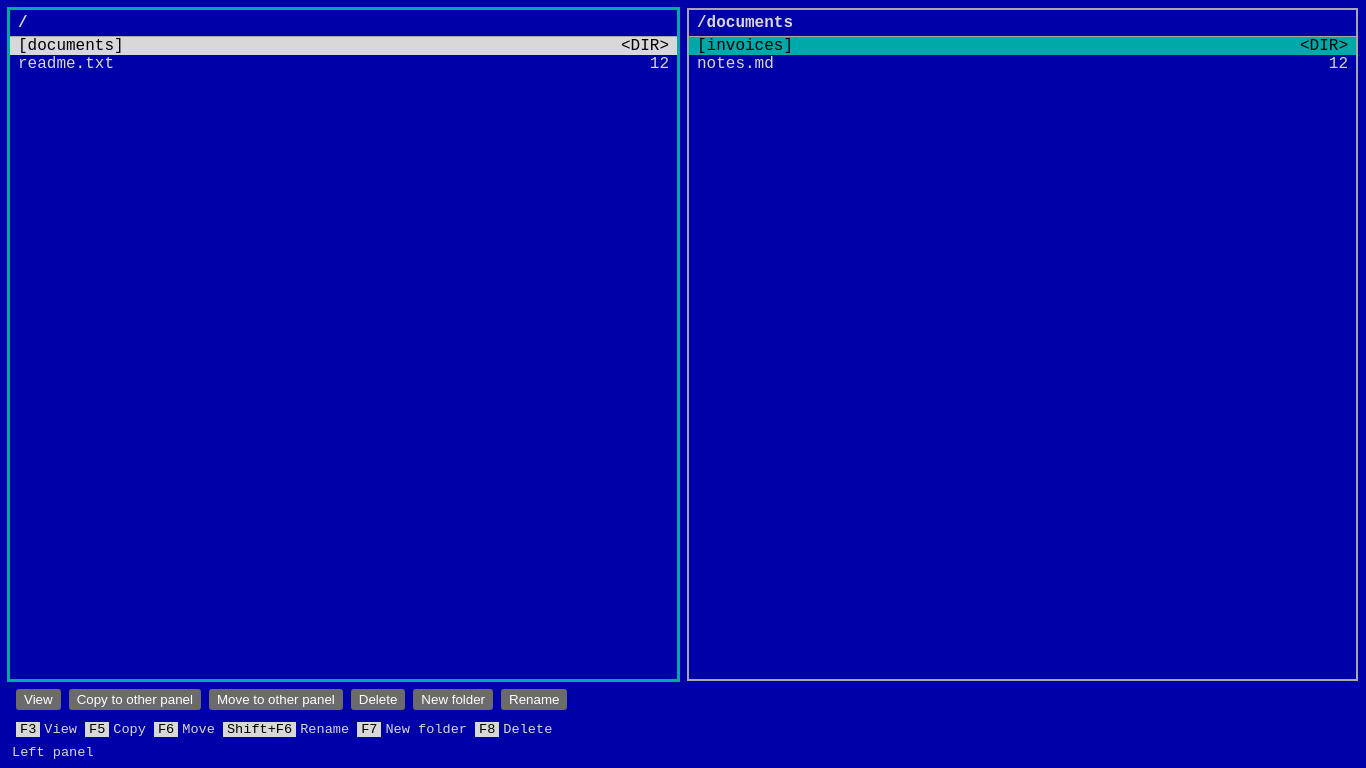
it: §REQ:TWO-PNL-NVGT-OOX-030 opening a subfolder in the active panel › §REQ:TWO-PNL-NVGT-OOX-030 the active panel shows the content of the opened subfolder
The image size is (1366, 768).
Double-click the option "[documents] <DIR>" at (71, 46), box 10,37 -> 677,55
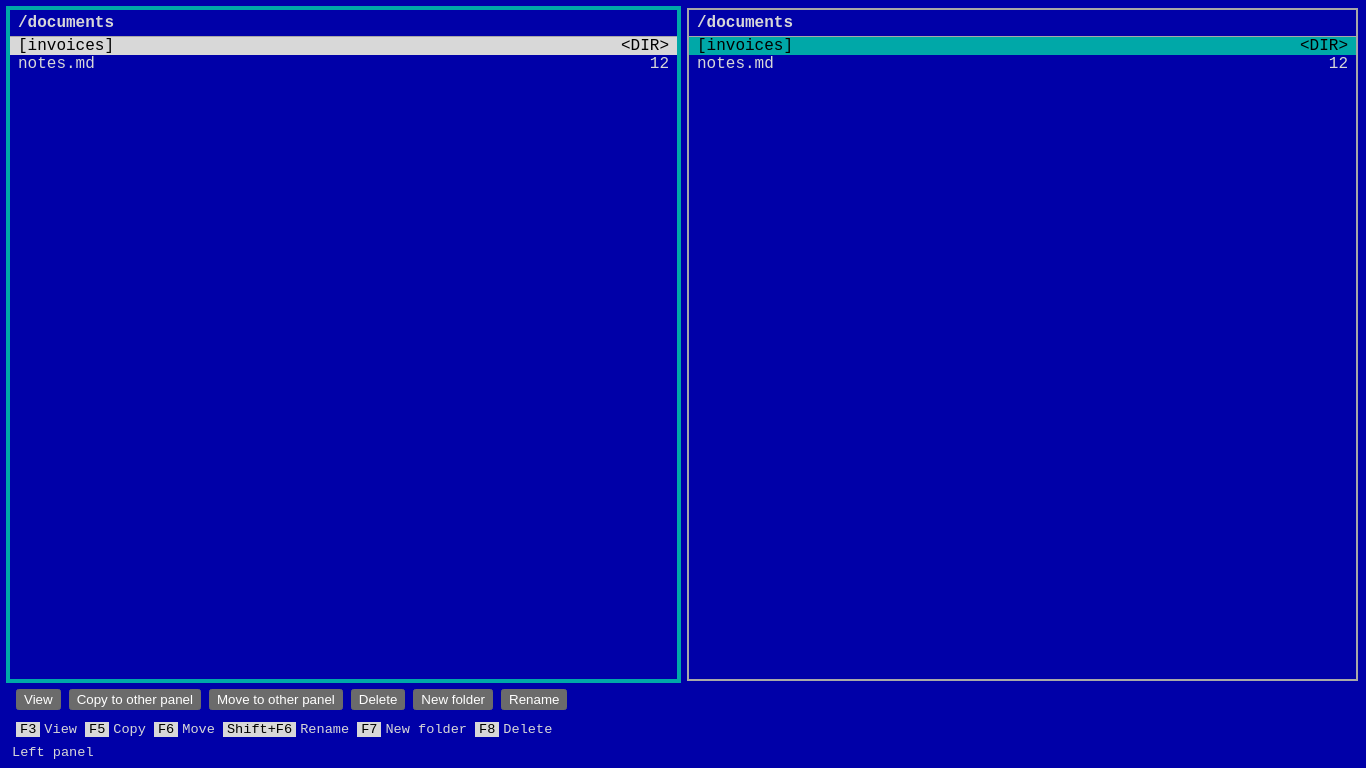
expect the 1st option "[invoices] <DIR>" is shown: met, box 10,37 -> 677,55
expect the 1st option "notes.md 12" is shown: met, box 10,55 -> 677,73
expect the option "readme.txt" is gone: met
